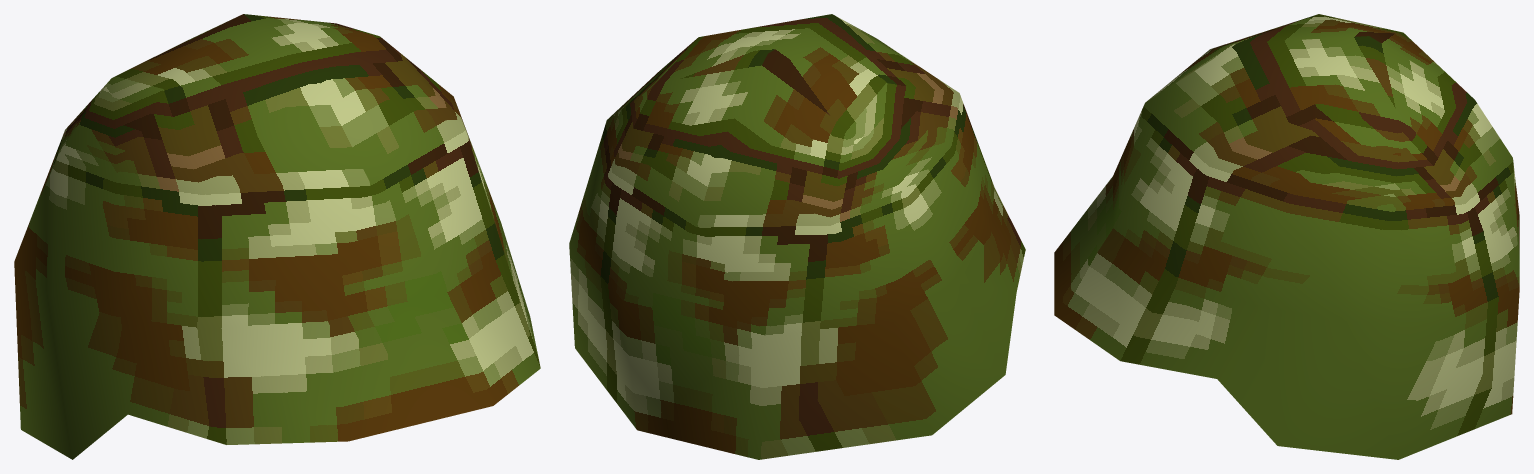
3 views of the same model, side by side, from view 1: azimuth 30°, elevation 25°; view 2: azimuth 150°, elevation 25°; view 3: azimuth 270°, elevation 25° (orthographic). The views are drawn at different scales.
Parts seen in each view (by area): view 1: code_head09; view 2: code_head09; view 3: code_head09.
Boxes of the visible parts, x1=… form: code_head09: x1=14, y1=14, x2=540, y2=459; code_head09: x1=569, y1=14, x2=1025, y2=459; code_head09: x1=1054, y1=14, x2=1519, y2=459.
Bounding box in the file's own units: 0.7607 × 0.6411 × 0.7778.
1 material, 1 textured.
